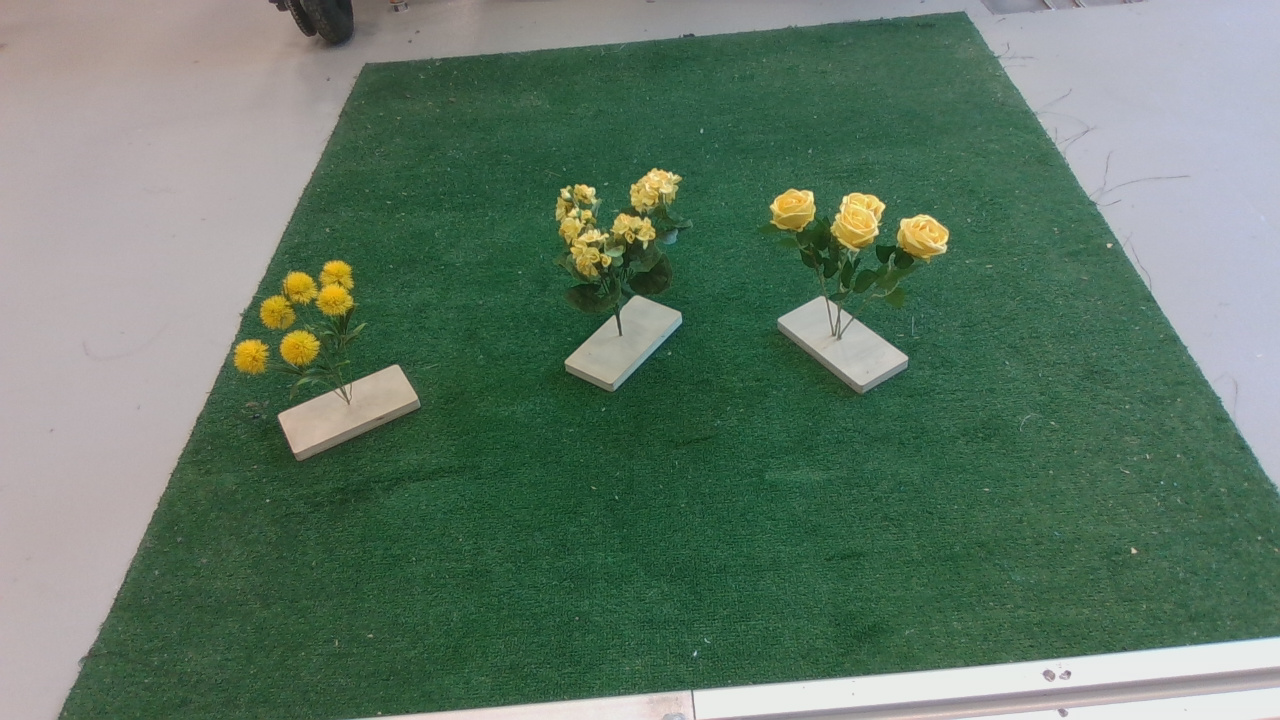dandelion: (235, 258, 372, 393)
geranium: (550, 160, 694, 317)
rose: (768, 174, 960, 310)
